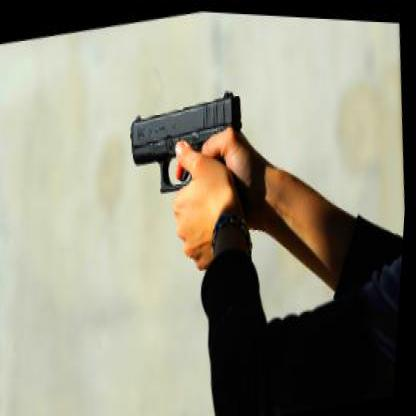pistol: (125, 77, 250, 202)
